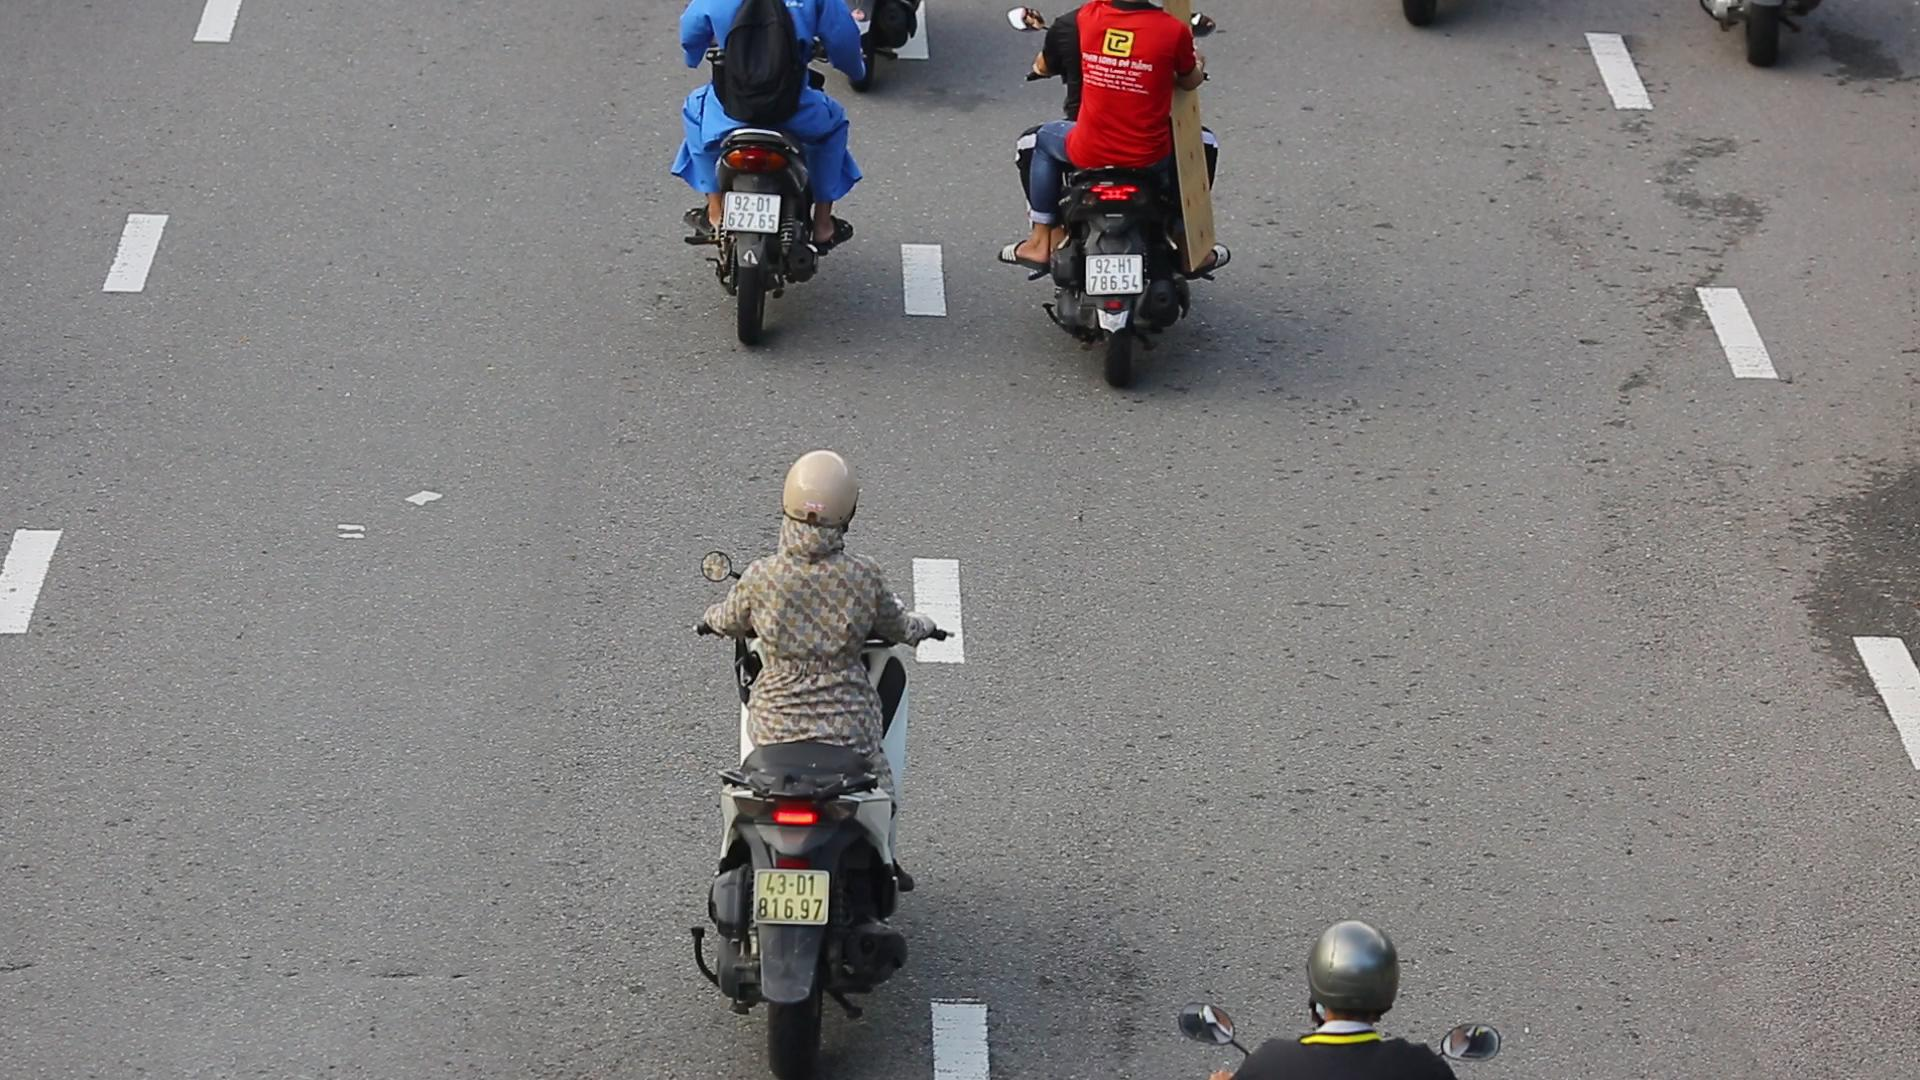motobike: (684, 444, 948, 1080)
